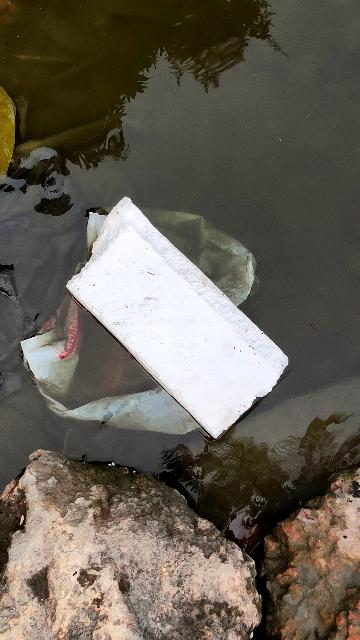cocksheet: (49, 196, 303, 444)
